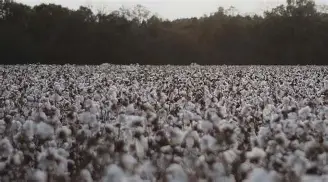crops: (1, 62, 326, 182), (0, 0, 323, 64)
